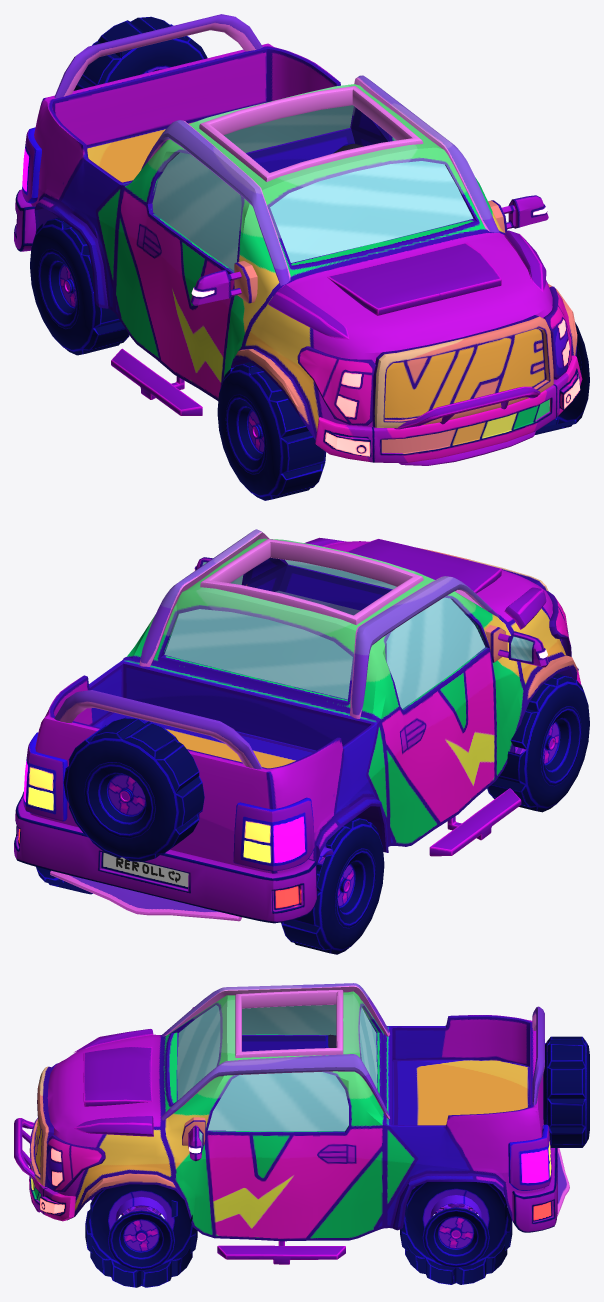
The model's file is 699d6624_07db_4bc4_861a_1dcf4681237a_4b4e5b08d7_100.glb.
The picture shows the model from 3 angles, top to bottom: view 1: azimuth 30°, elevation 25°; view 2: azimuth 150°, elevation 25°; view 3: azimuth 270°, elevation 25°; orthographic projection. The views are drawn at different scales.
Visible parts, largest first — view 1: VIPE_Wagon, wheel_front_r, wheel_back_r, wheel_front_l; view 2: VIPE_Wagon, wheel_front_r, wheel_back_r; view 3: VIPE_Wagon, wheel_back_l, wheel_front_l.
Part boxes in pixels (<box>): VIPE_Wagon: <box>14,14,582,465</box>; wheel_front_r: <box>217,362,326,500</box>; wheel_back_r: <box>30,217,129,355</box>; wheel_front_l: <box>534,322,589,434</box>; VIPE_Wagon: <box>14,529,581,923</box>; wheel_front_r: <box>487,673,589,812</box>; wheel_back_r: <box>281,817,384,954</box>; VIPE_Wagon: <box>14,983,589,1264</box>; wheel_back_l: <box>400,1182,512,1284</box>; wheel_front_l: <box>85,1184,197,1287</box>.
Size of the model in its own units: 2.44 by 1.76 by 4.28.
4 materials, 4 textured.
